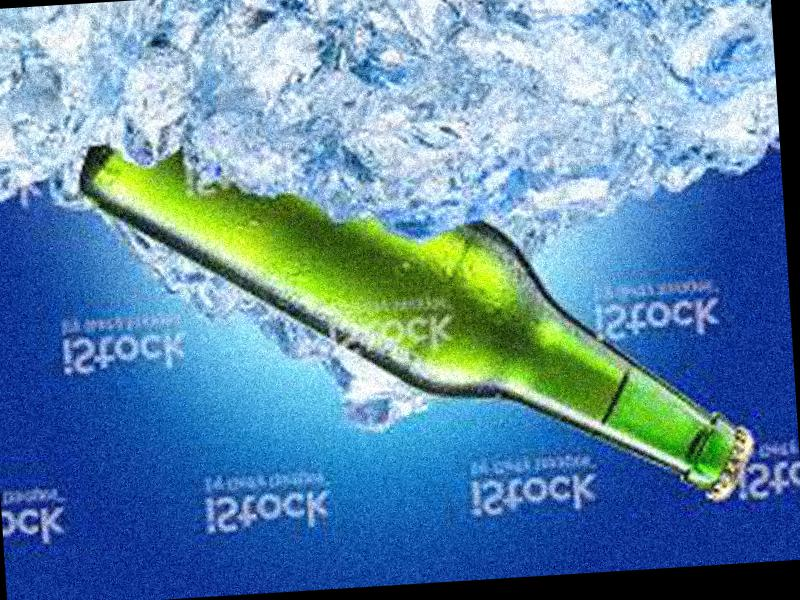Beer: (75, 104, 763, 542)
